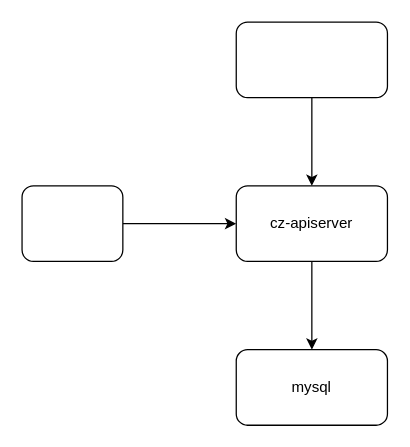
Image size: 410x447. Some labels were removed from this diagram. The shapes that lost their labels are listed below. From the top down, each one's centre as x and y in pixels, then its label:
At (x=311, y=59): "cz-webconsole".
At (x=72, y=223): "czctl".
